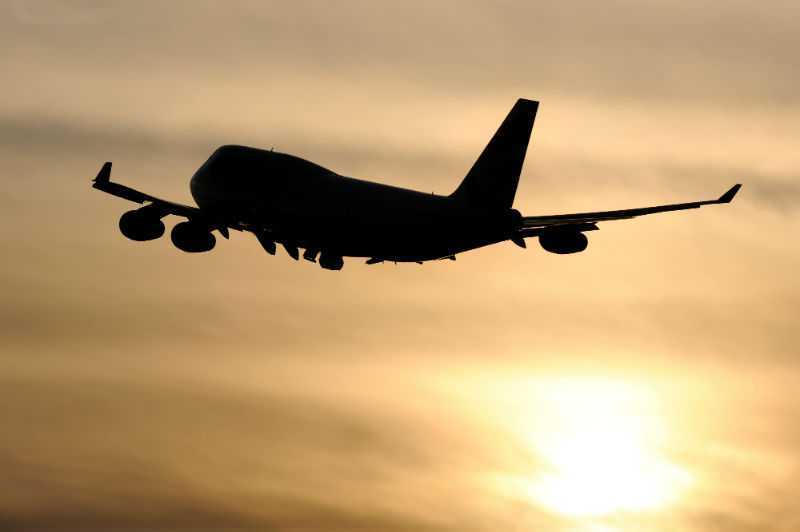aeroplane: (89, 95, 743, 275)
